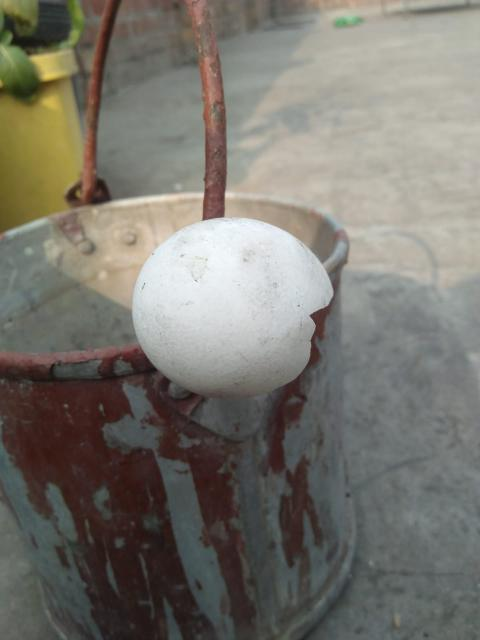Roto: (131, 215, 334, 399)
